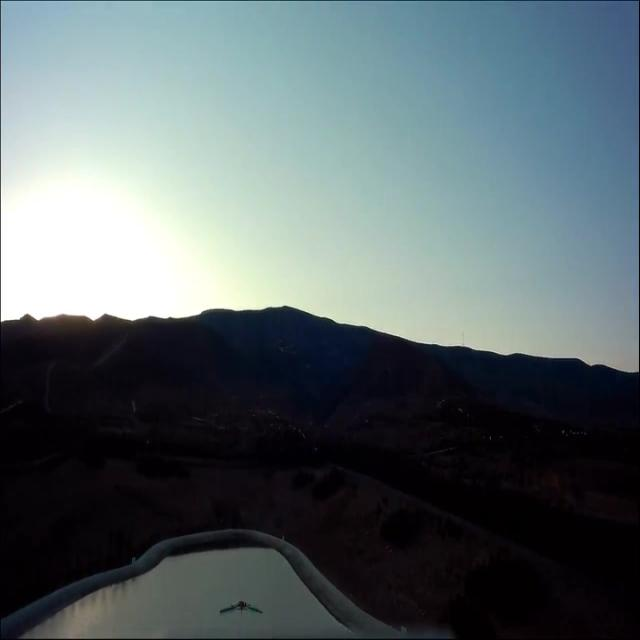iha: (219, 598, 263, 616)
